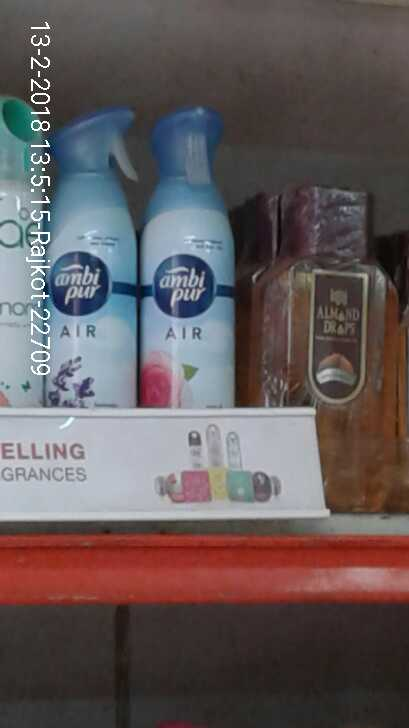ambipure: (132, 112, 240, 412), (49, 106, 139, 413)
